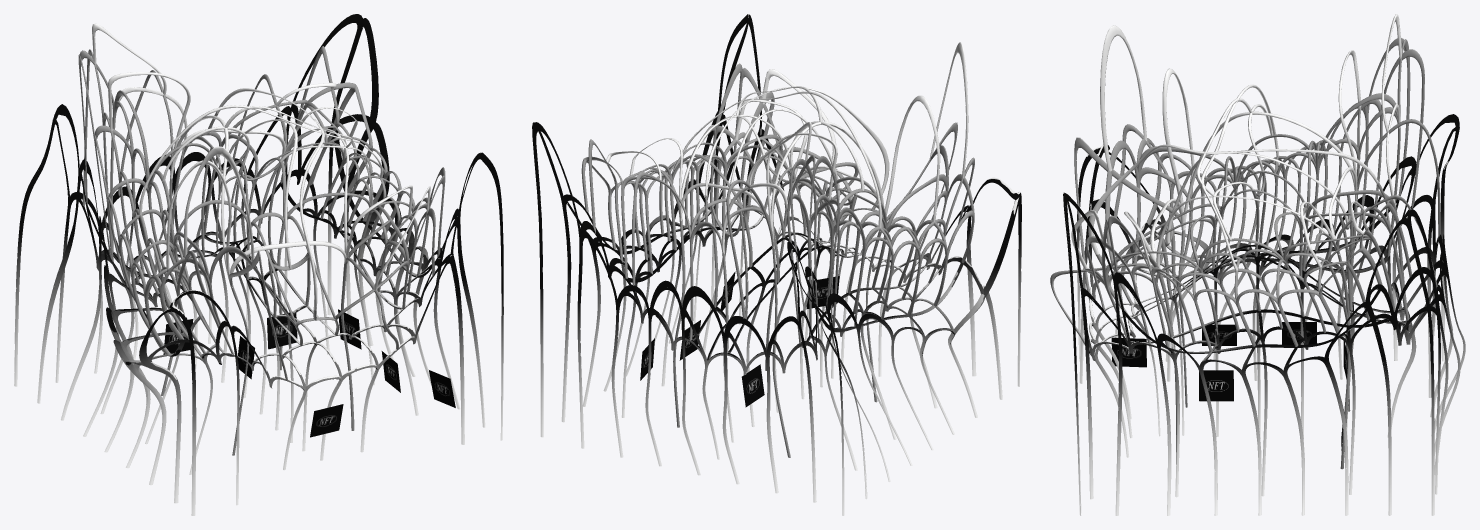
3 views of the same model, side by side, from view 1: azimuth 30°, elevation 25°; view 2: azimuth 150°, elevation 25°; view 3: azimuth 270°, elevation 25° (orthographic). The views are drawn at different scales.
Visible parts, largest first — view 1: R3.001, Slot_001, Slot_009, Slot_012; view 2: R3.001, Slot_006; view 3: R3.001, Slot_008, Slot_002, Slot_003, Slot_004.
Part boxes in pixels (x1,y1,x2,y2): R3.001: (14,14,503,515); Slot_001: (310,404,343,437); Slot_009: (267,311,297,349); Slot_012: (429,370,455,407); R3.001: (532,14,1021,515); Slot_006: (741,364,764,407); R3.001: (1050,14,1465,515); Slot_008: (1199,370,1233,401); Slot_002: (1111,337,1146,367); Slot_003: (1202,324,1236,345); Slot_004: (1282,322,1316,344).
Bounding box in the file's own units: 23.8 × 23.8 × 23.9.
19 materials, 17 textured.
